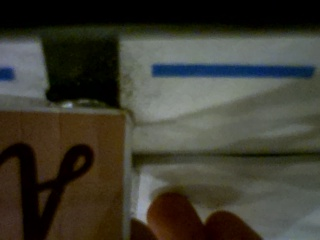A: (0, 115, 125, 240)
